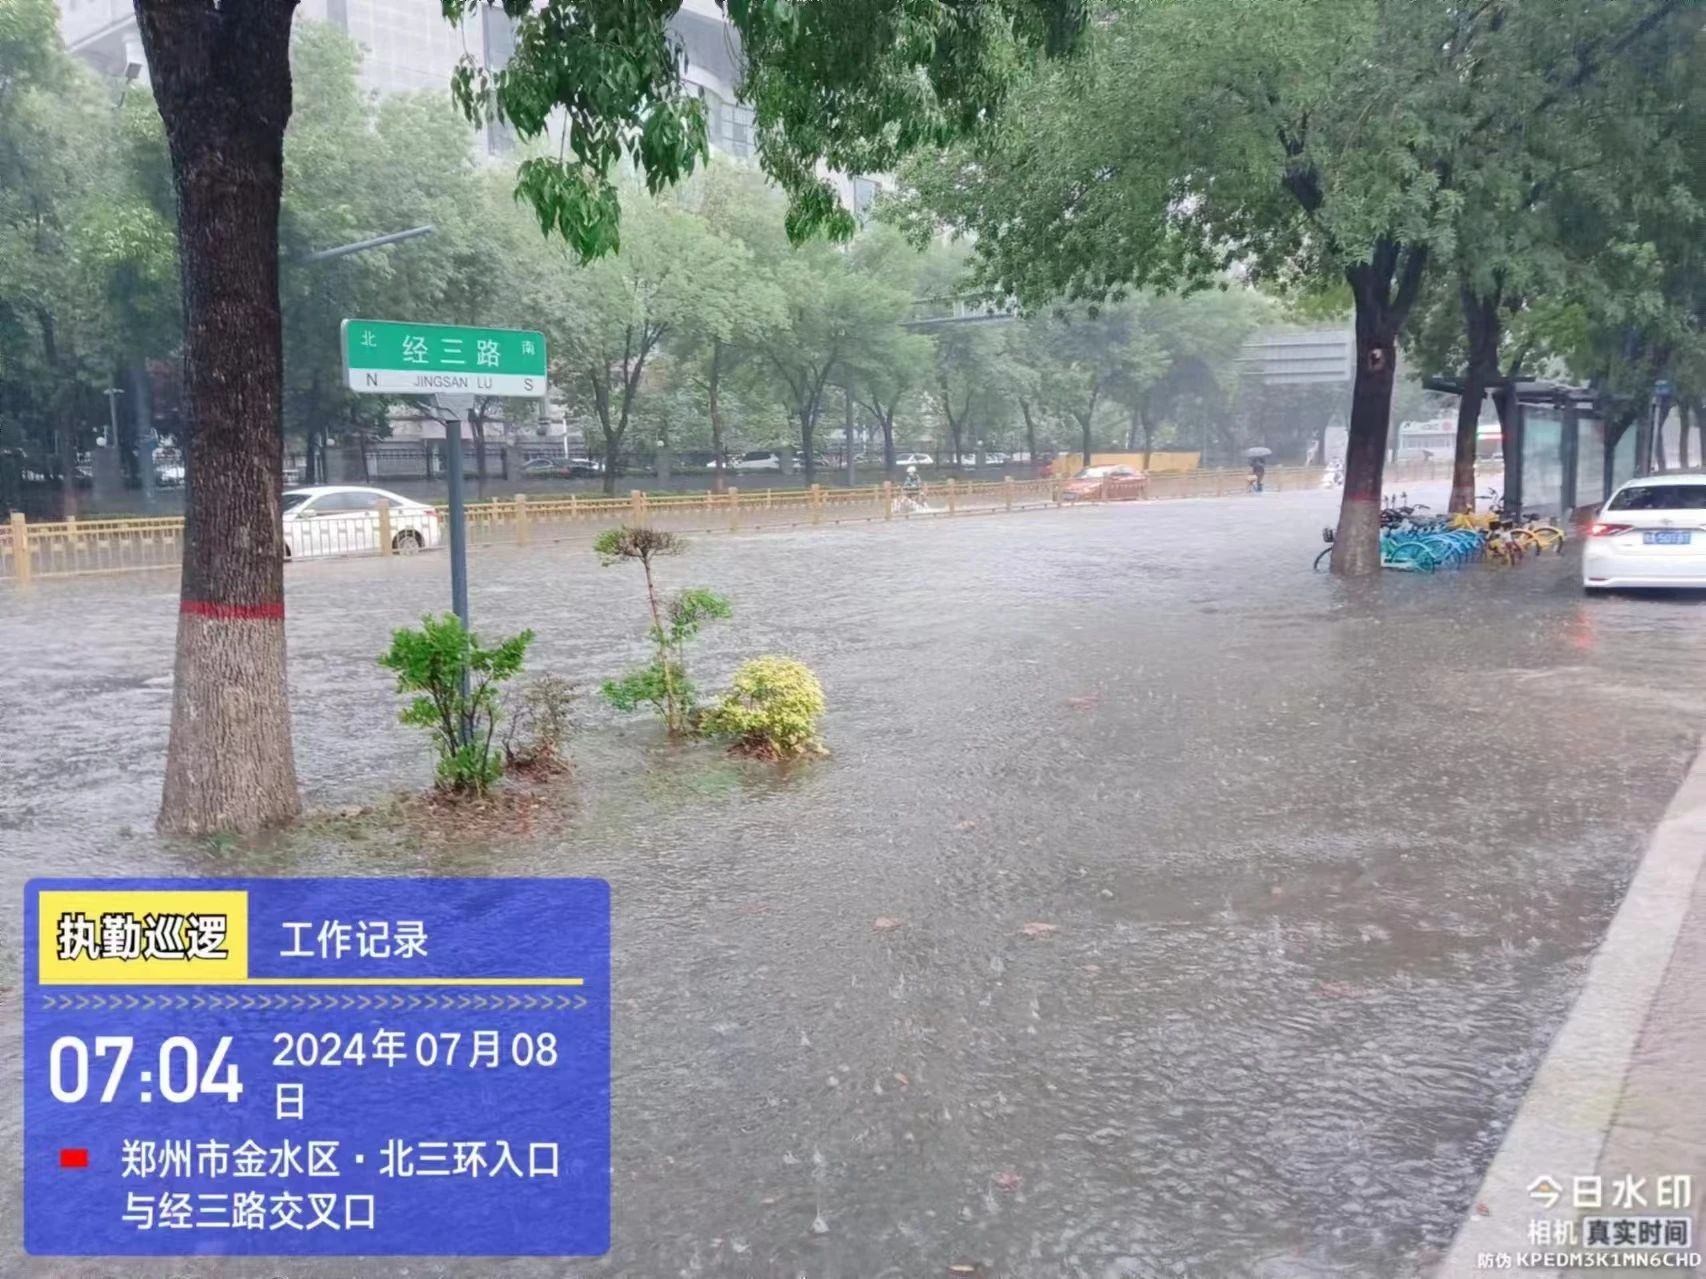puddle: (615, 536, 1694, 1279), (1, 576, 163, 836)
